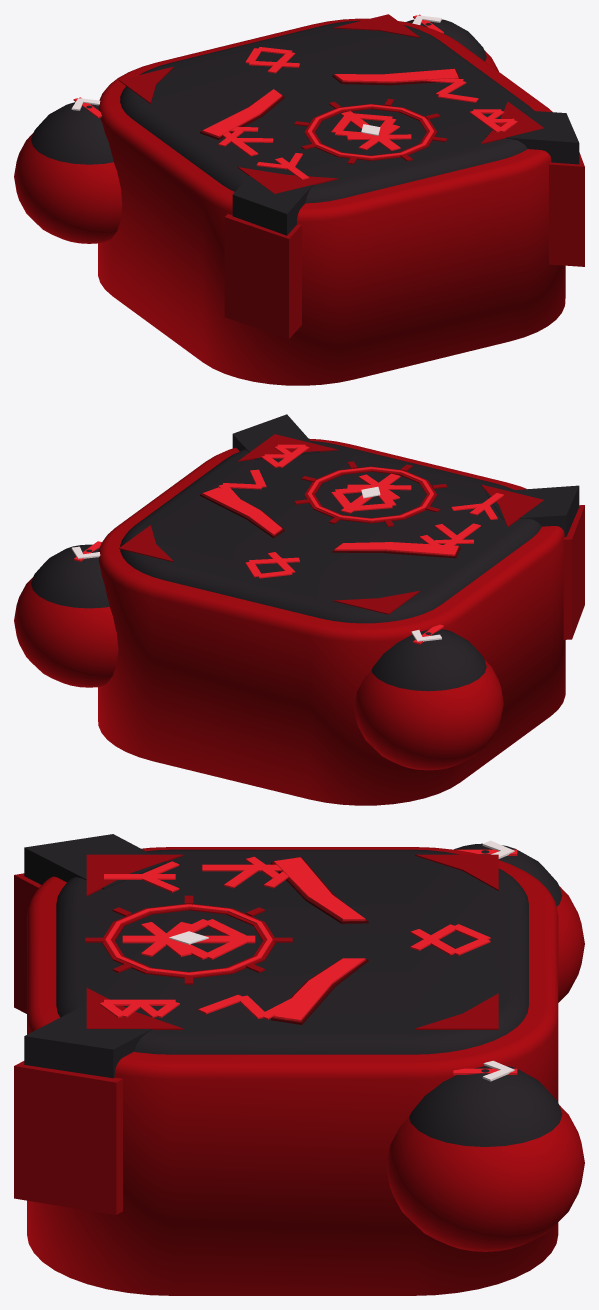
File: body_runa_sombria.fbx
The picture shows the model from 3 angles, top to bottom: view 1: azimuth 30°, elevation 25°; view 2: azimuth 150°, elevation 25°; view 3: azimuth 270°, elevation 25°; orthographic projection. The views are drawn at different scales.
Parts seen in each view (by area): view 1: body_runa_sombria_corpo, body_runa_sombria_mao_esq, body_runa_sombria_corpo_neon, body_runa_sombria_mao; view 2: body_runa_sombria_corpo, body_runa_sombria_mao_esq, body_runa_sombria_mao, body_runa_sombria_corpo_neon; view 3: body_runa_sombria_corpo, body_runa_sombria_mao, body_runa_sombria_corpo_neon, body_runa_sombria_mao_esq.
Part boxes in pixels (<box>): body_runa_sombria_corpo: <box>98,14,584,385</box>; body_runa_sombria_mao_esq: <box>14,97,122,243</box>; body_runa_sombria_corpo_neon: <box>294,98,447,164</box>; body_runa_sombria_mao: <box>406,14,498,71</box>; body_runa_sombria_corpo: <box>98,414,584,805</box>; body_runa_sombria_mao_esq: <box>354,624,503,770</box>; body_runa_sombria_mao: <box>14,541,118,687</box>; body_runa_sombria_corpo_neon: <box>294,461,447,526</box>; body_runa_sombria_corpo: <box>14,834,558,1295</box>; body_runa_sombria_mao: <box>386,1060,584,1251</box>; body_runa_sombria_corpo_neon: <box>85,895,292,984</box>; body_runa_sombria_mao_esq: <box>454,840,584,1002</box>.
Bounding box in the file's own units: 5.4 × 2.05 × 4.3.
Materials: 1 (1 with a texture image).
